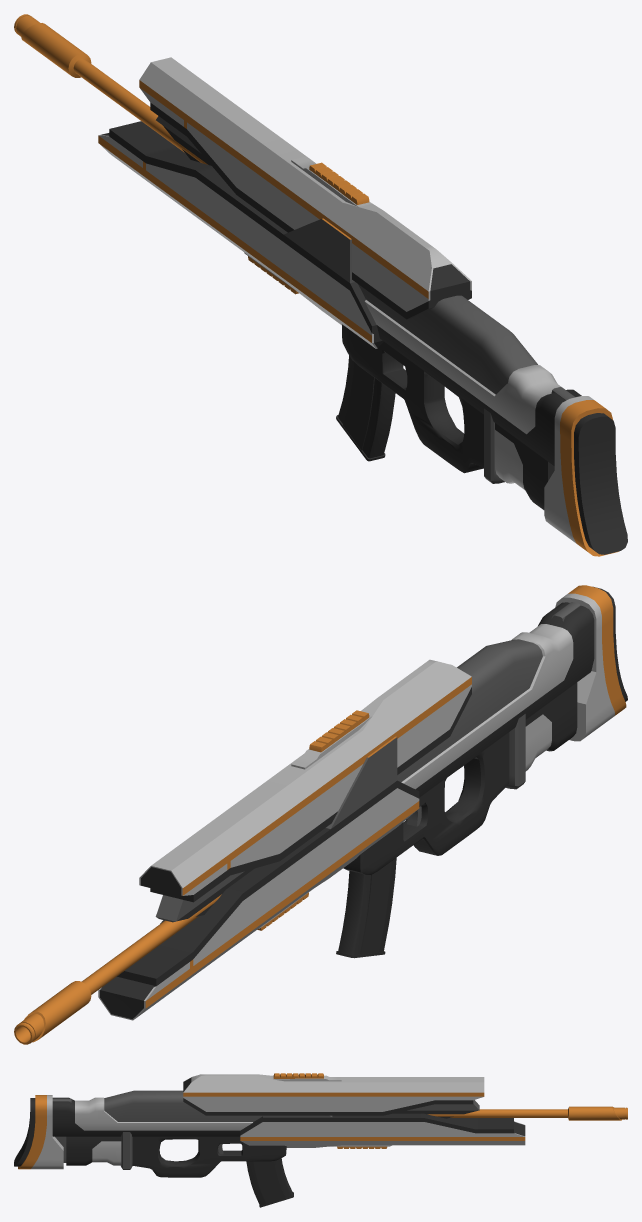
Rendered from Railgun.fbx.
3 views of the same model, one above another, from view 1: azimuth 30°, elevation 25°; view 2: azimuth 150°, elevation 25°; view 3: azimuth 270°, elevation 25° (orthographic). The views are drawn at different scales.
Parts seen in each view (by area): view 1: Sniper_1, Magazine_Sniper; view 2: Sniper_1, Magazine_Sniper; view 3: Sniper_1, Magazine_Sniper.
Boxes of the visible parts, x1,y1,x2,y2 form: Sniper_1: (14, 14, 627, 556); Magazine_Sniper: (336, 355, 395, 461); Sniper_1: (14, 585, 627, 1044); Magazine_Sniper: (336, 858, 396, 958); Sniper_1: (14, 1073, 627, 1177); Magazine_Sniper: (246, 1158, 293, 1207).
Size of the model in its own units: 10.28 by 222 by 52.22.
